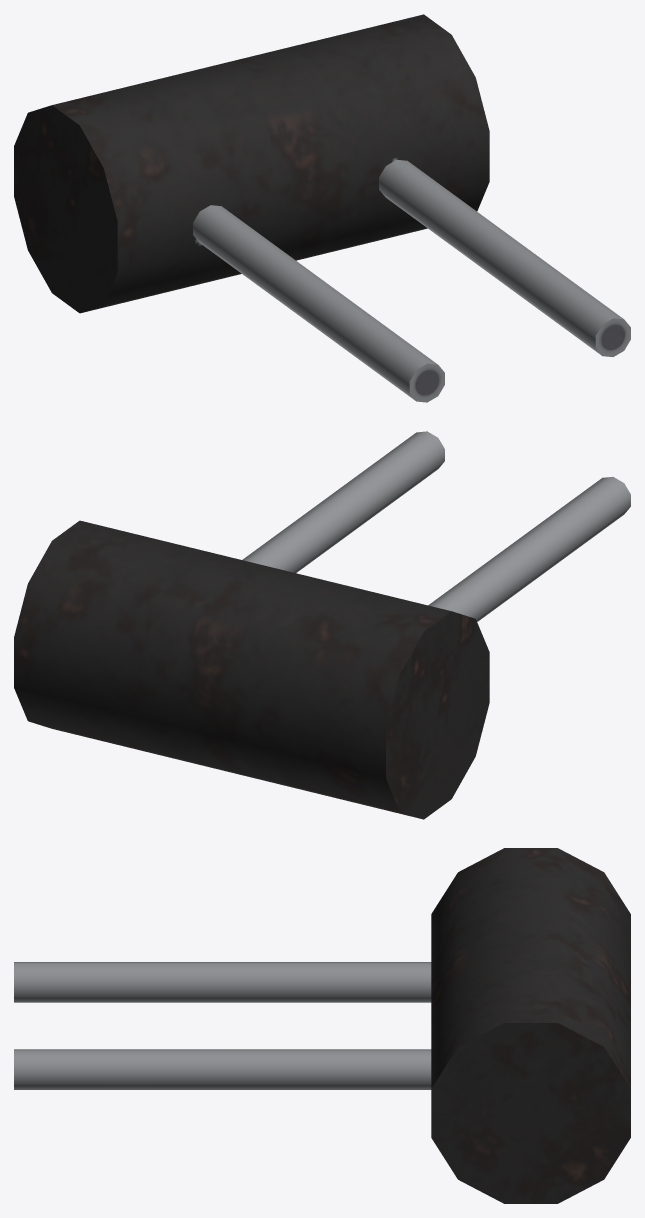
The model's file is gun_s_1.fbx.
3 views of the same model, one above another, from view 1: azimuth 30°, elevation 25°; view 2: azimuth 150°, elevation 25°; view 3: azimuth 270°, elevation 25° (orthographic). The views are drawn at different scales.
Parts seen in each view (by area): view 1: gun_s_1; view 2: gun_s_1; view 3: gun_s_1.
Part boxes in pixels (bbox=[...]): gun_s_1: bbox=[14, 14, 630, 402]; gun_s_1: bbox=[14, 431, 630, 819]; gun_s_1: bbox=[14, 848, 630, 1203].
Size of the model in its own units: 2 by 0.9659 by 2.98.
